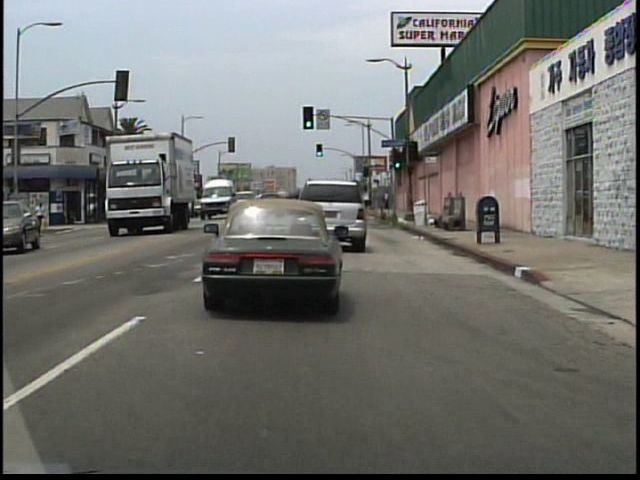person: (34, 202, 46, 230), (381, 189, 391, 209)
